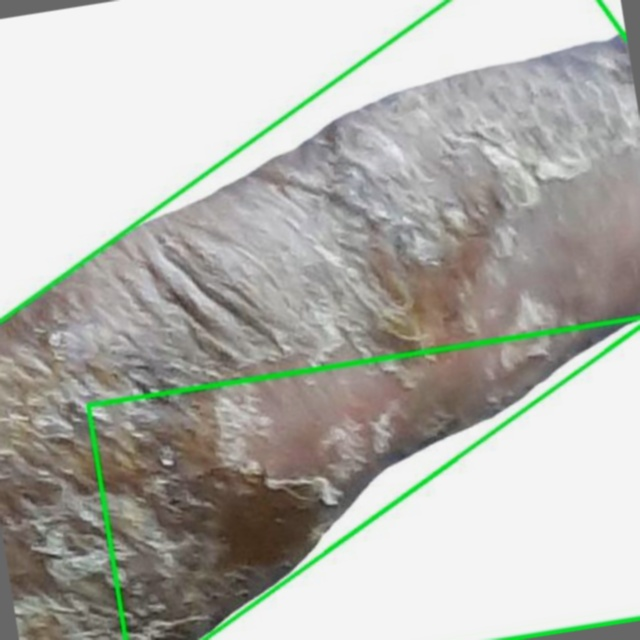Eczema: (0, 0, 639, 639), (87, 319, 639, 639)
